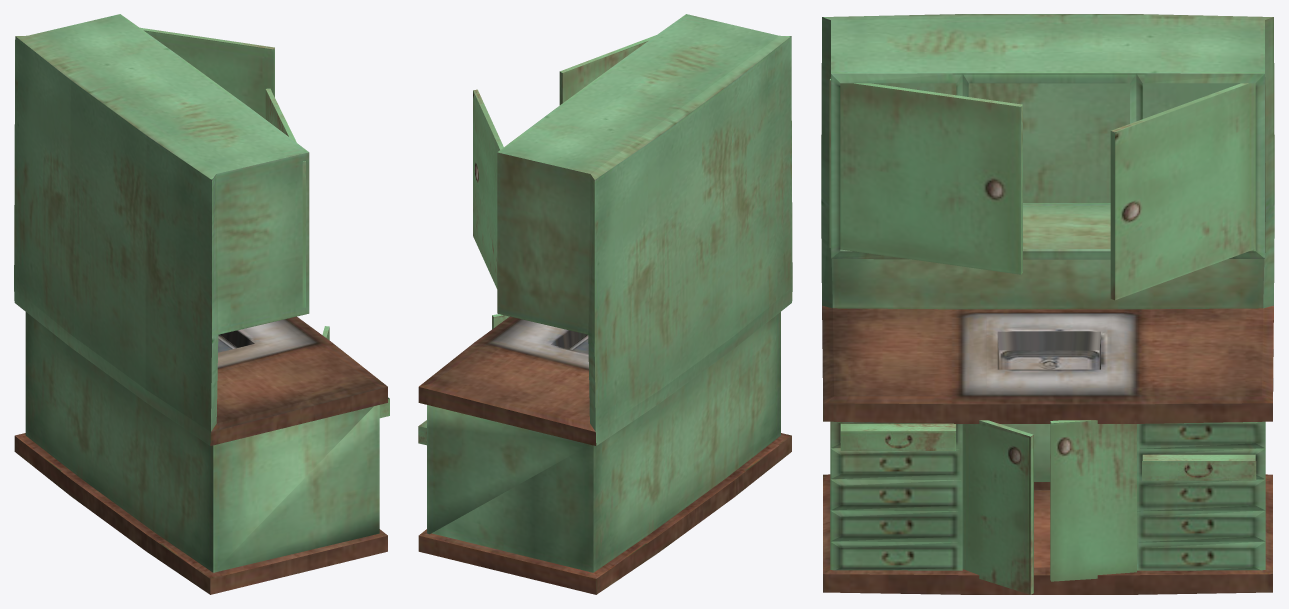
File: Cabinet.FBX
3 views of the same model, side by side, from view 1: azimuth 30°, elevation 25°; view 2: azimuth 150°, elevation 25°; view 3: azimuth 270°, elevation 25° (orthographic). The views are drawn at different scales.
Visible parts, largest first — view 1: sinkplace, pressupdoor1, pressupdoor002; view 2: sinkplace, pressupdoor1, pressupdoor002; view 3: sinkplace, pressupdoor002, pressupdoor1, doorsink, doorsink001, drawerkitchen1, drawerkitchen002.
Boxes of the visible parts, x1,y1,x2,y2 form: sinkplace: (14,14,387,594); pressupdoor1: (140,27,274,118); pressupdoor002: (265,88,305,307); sinkplace: (418,14,792,594); pressupdoor1: (473,89,503,288); pressupdoor002: (559,35,656,104); sinkplace: (821,14,1274,594); pressupdoor002: (829,79,1022,274); pressupdoor1: (1110,83,1255,300); doorsink: (1050,420,1136,581); doorsink001: (962,420,1033,594); drawerkitchen1: (840,423,956,450); drawerkitchen002: (1142,454,1256,480).
Bounding box in the file's own units: 50.9 × 95.24 × 81.41.
2 materials, 2 textured.
